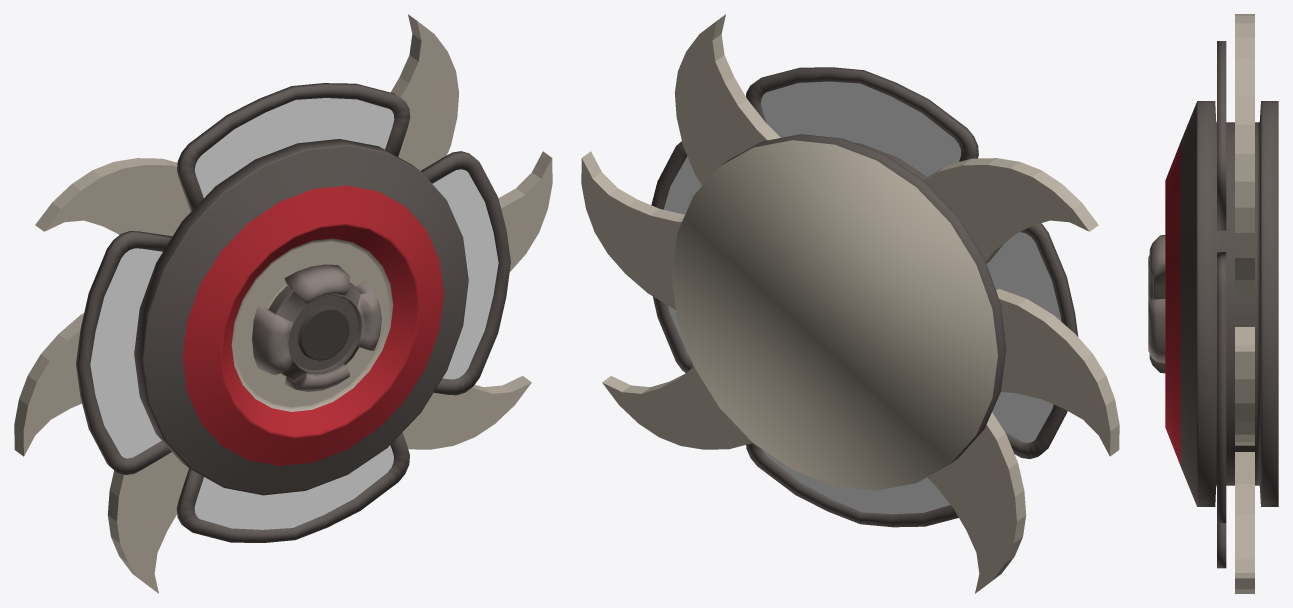
File: Saw_6.fbx
3 renders of one model, left to right at view 1: azimuth 30°, elevation 25°; view 2: azimuth 150°, elevation 25°; view 3: azimuth 270°, elevation 25°, orthographic. The views are drawn at different scales.
Parts seen in each view (by area): view 1: Cylinder.015, Cylinder.041, Cylinder.036, Cylinder.034, Cylinder.040, Cylinder.035, Cylinder.024; view 2: Cylinder.015, Cylinder.035, Cylinder.041, Cylinder.036, Cylinder.034, Cylinder.024, Cylinder.040; view 3: Cylinder.015, Cylinder.034, Cylinder.040, Cylinder.024, Cylinder.041.
Part boxes in pixels (<box>): Cylinder.015: <box>76,83,510,542</box>; Cylinder.041: <box>35,158,190,236</box>; Cylinder.036: <box>107,452,188,593</box>; Cylinder.034: <box>390,14,459,170</box>; Cylinder.040: <box>402,376,531,449</box>; Cylinder.035: <box>14,313,83,456</box>; Cylinder.024: <box>498,151,552,271</box>; Cylinder.015: <box>651,67,1078,527</box>; Cylinder.035: <box>996,289,1119,456</box>; Cylinder.041: <box>923,158,1098,263</box>; Cylinder.036: <box>927,412,1026,593</box>; Cylinder.034: <box>674,14,780,185</box>; Cylinder.024: <box>581,151,684,309</box>; Cylinder.040: <box>602,367,752,449</box>; Cylinder.015: <box>1148,41,1278,568</box>; Cylinder.034: <box>1235,96,1254,295</box>; Cylinder.040: <box>1235,452,1254,593</box>; Cylinder.024: <box>1235,327,1254,445</box>; Cylinder.041: <box>1235,14,1254,96</box>.
Size of the model in its own units: 0.4865 by 0.4483 by 0.0961.
2 materials, 1 textured.
